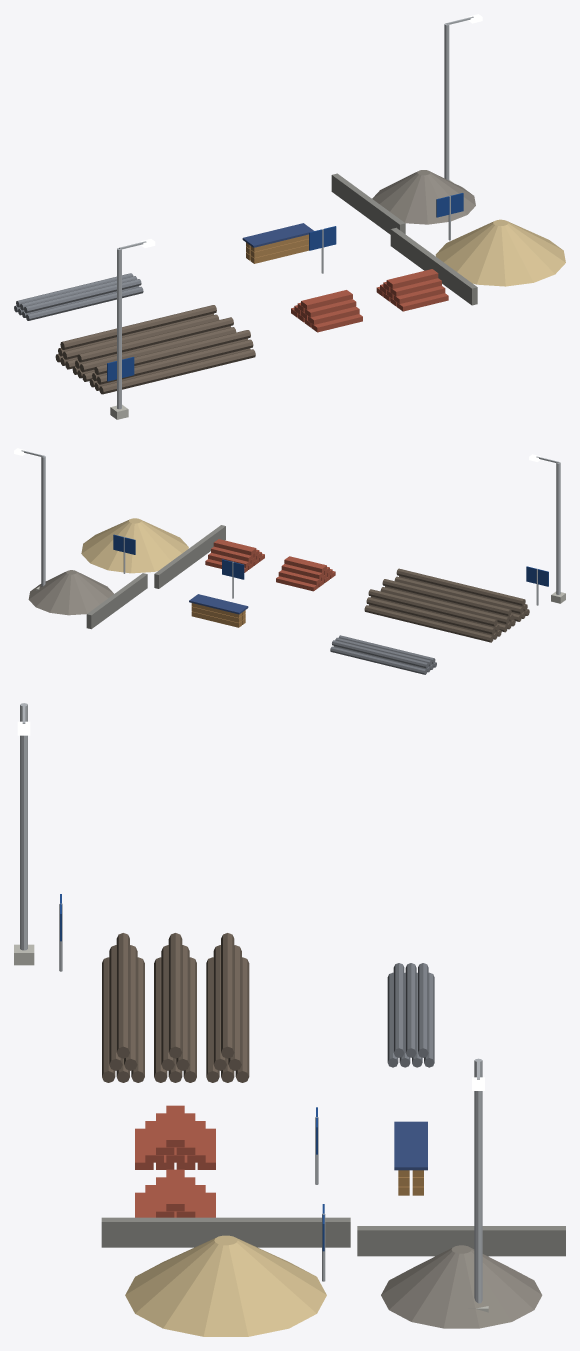
The model's file is material_yard.glb.
3 renders of one model, top to bottom at view 1: azimuth 30°, elevation 25°; view 2: azimuth 150°, elevation 25°; view 3: azimuth 270°, elevation 25°, orthographic. The views are drawn at different scales.
Visible parts, largest first — view 1: MaterialYard; view 2: MaterialYard; view 3: MaterialYard.
Boxes of the visible parts, box(x1,y1,x2,y2) form: MaterialYard: box(14, 14, 565, 419); MaterialYard: box(14, 448, 565, 674); MaterialYard: box(14, 703, 565, 1336).
Size of the model in its own units: 27.07 by 8.48 by 16.4.
